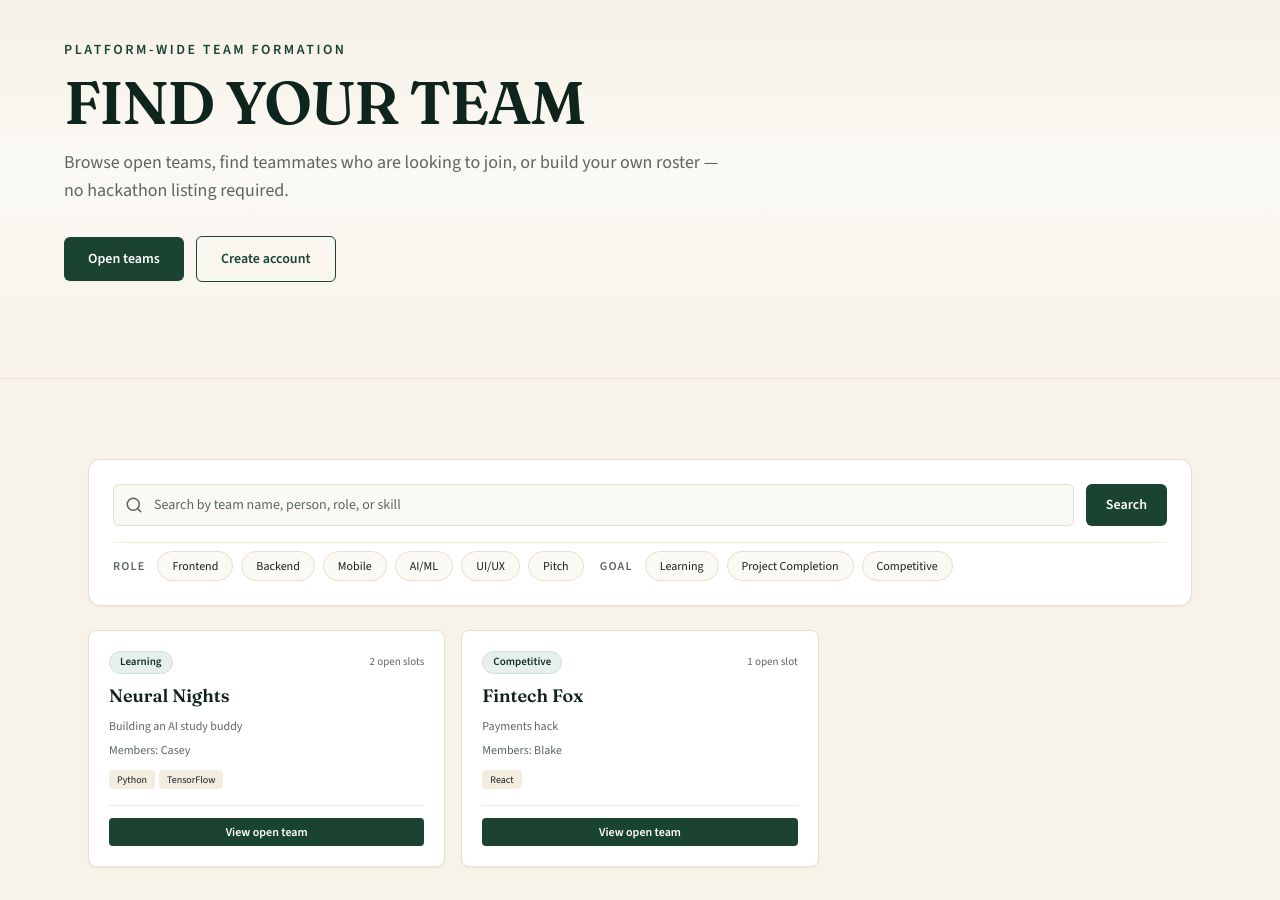
Test: LandingPage (#361 event-free) › searches by team name and person name
Expected: the heading "Neural Nights" is shown, [109, 684, 230, 706]
Type "Casey" into the search field with placeholder "Search by team name, person, role, or skill" at (593, 505), box [113, 484, 1074, 526]
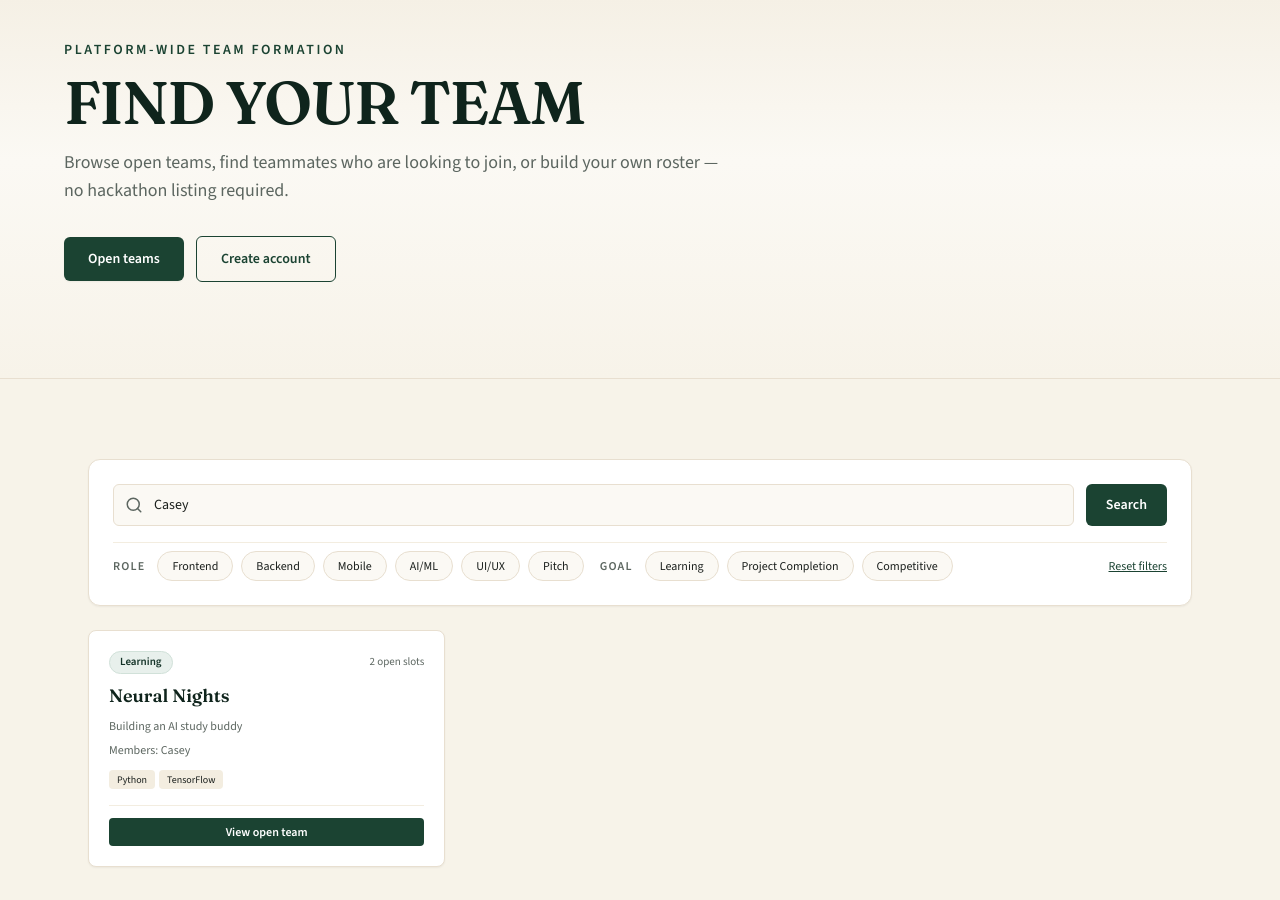
Expected: the heading "Neural Nights" is shown, [109, 684, 230, 706]
Expected: the heading "Fintech Fox" is gone
Replace the text in the search field with placeholder "Search by team name, person, role, or skill" with "Fintech" at (593, 505), box [113, 484, 1074, 526]
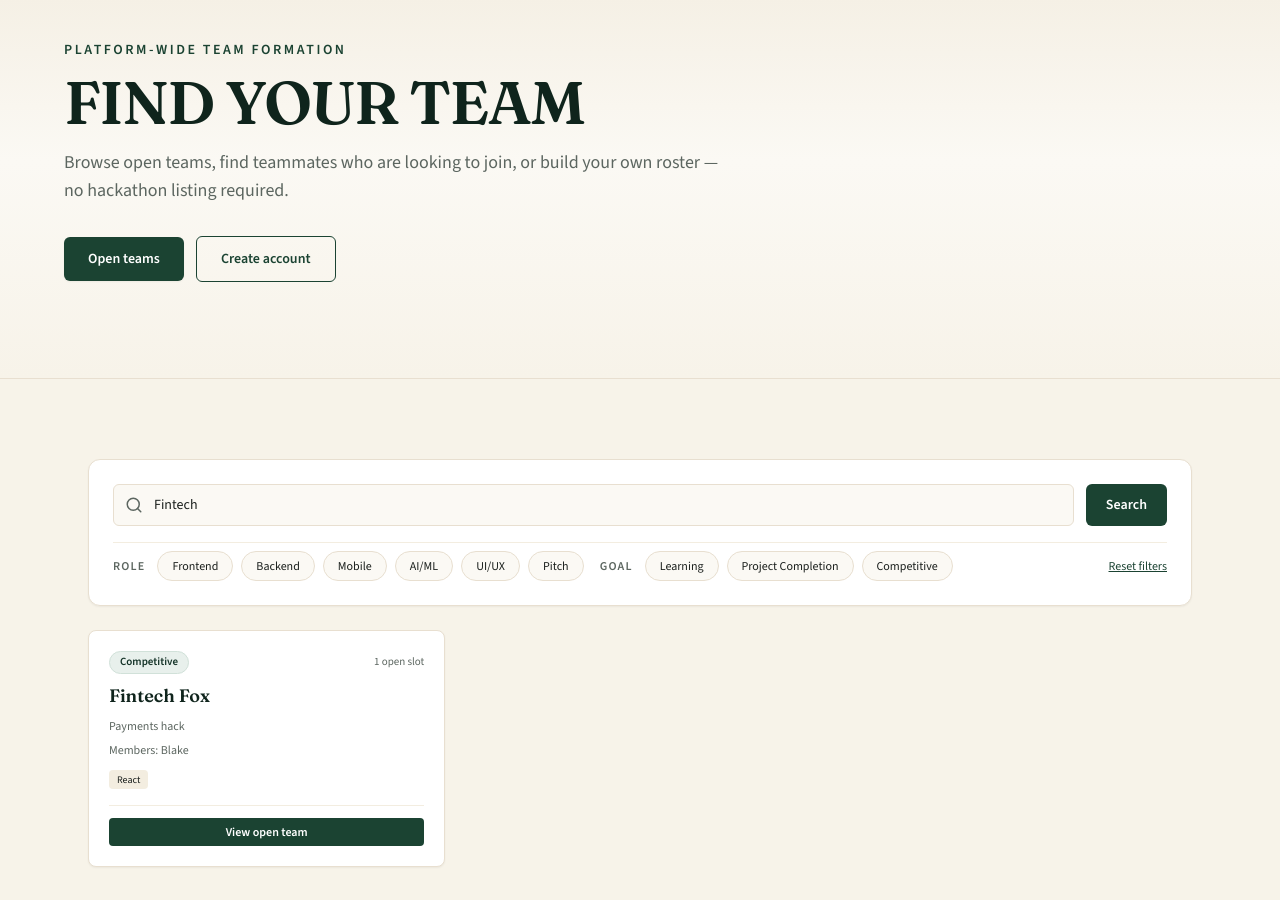
Expected: the heading "Fintech Fox" is shown, [109, 684, 210, 706]
Expected: the heading "Neural Nights" is gone
